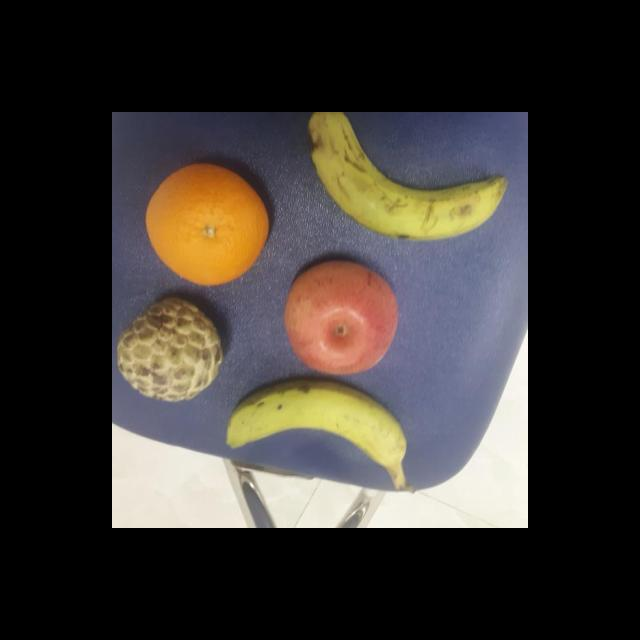Sakya fruit: (115, 296, 227, 403)
apple: (284, 260, 400, 376)
banana: (304, 112, 508, 243), (226, 373, 406, 478)
orange: (142, 163, 274, 287)
